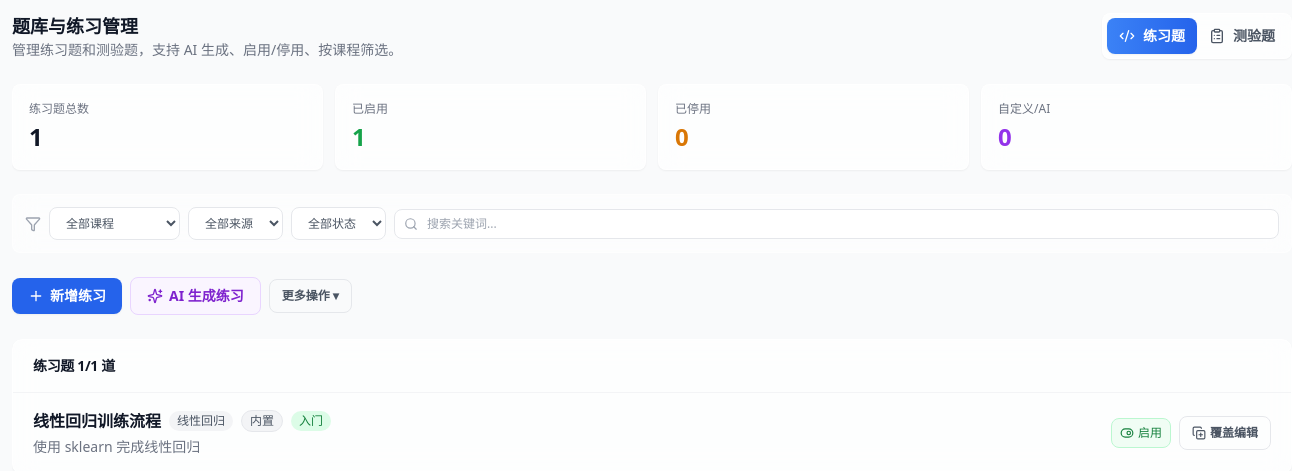
Test: AdminQuestionPanel › 更多操作下拉菜单 › 点击"更多操作"展开下拉菜单
Click the button "更多操作 ▾": {"x": 310, "y": 296} [269,279,352,313]
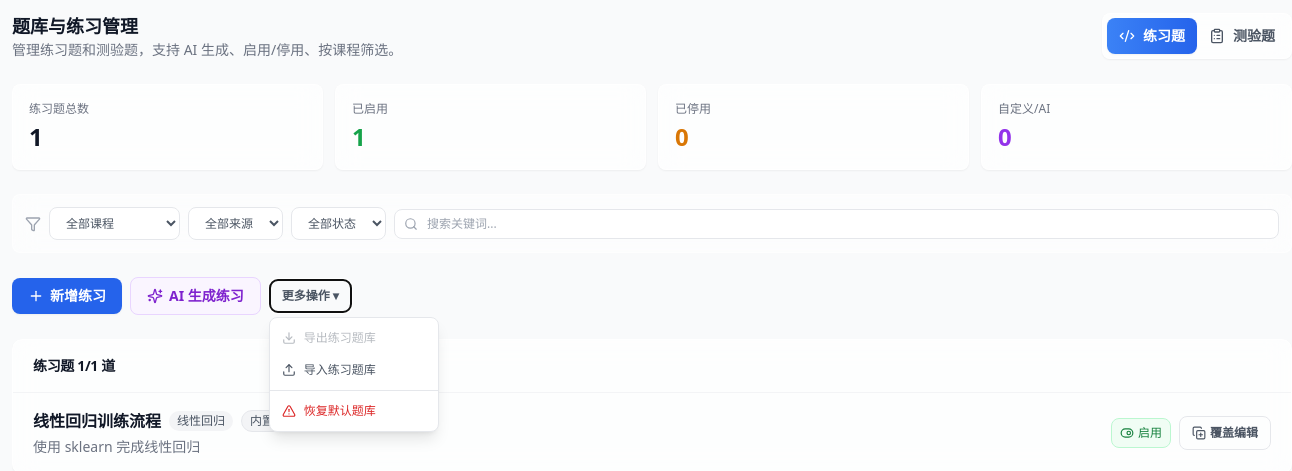
Check: the button "恢复默认题库" is shown, box [270,395,438,427]
